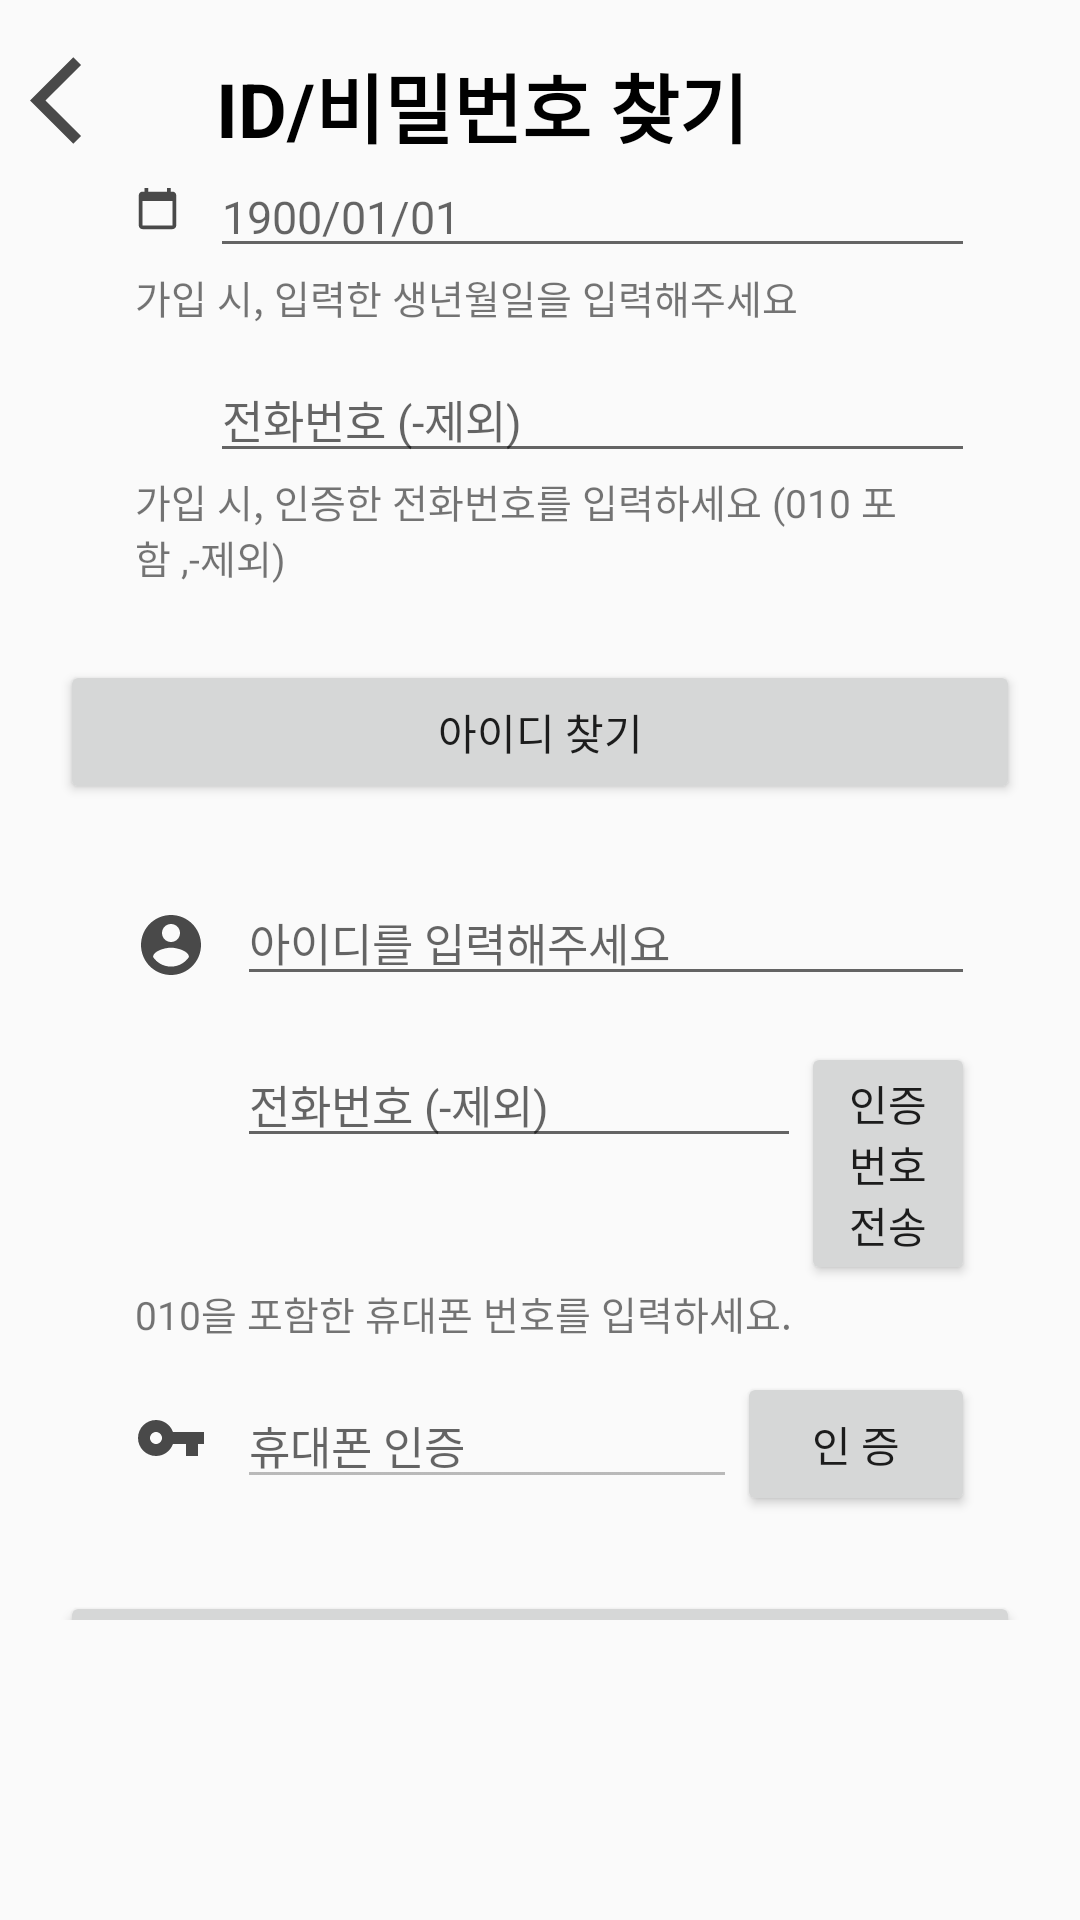

Screen size 1080 × 1920. Icon name, then its box in pixels as (x1, y1, x2, y2):
account circle: (141, 915, 201, 975)
arrow back: (30, 57, 81, 144)
calendar today: (138, 188, 177, 230)
vpn key: (138, 1420, 204, 1456)
